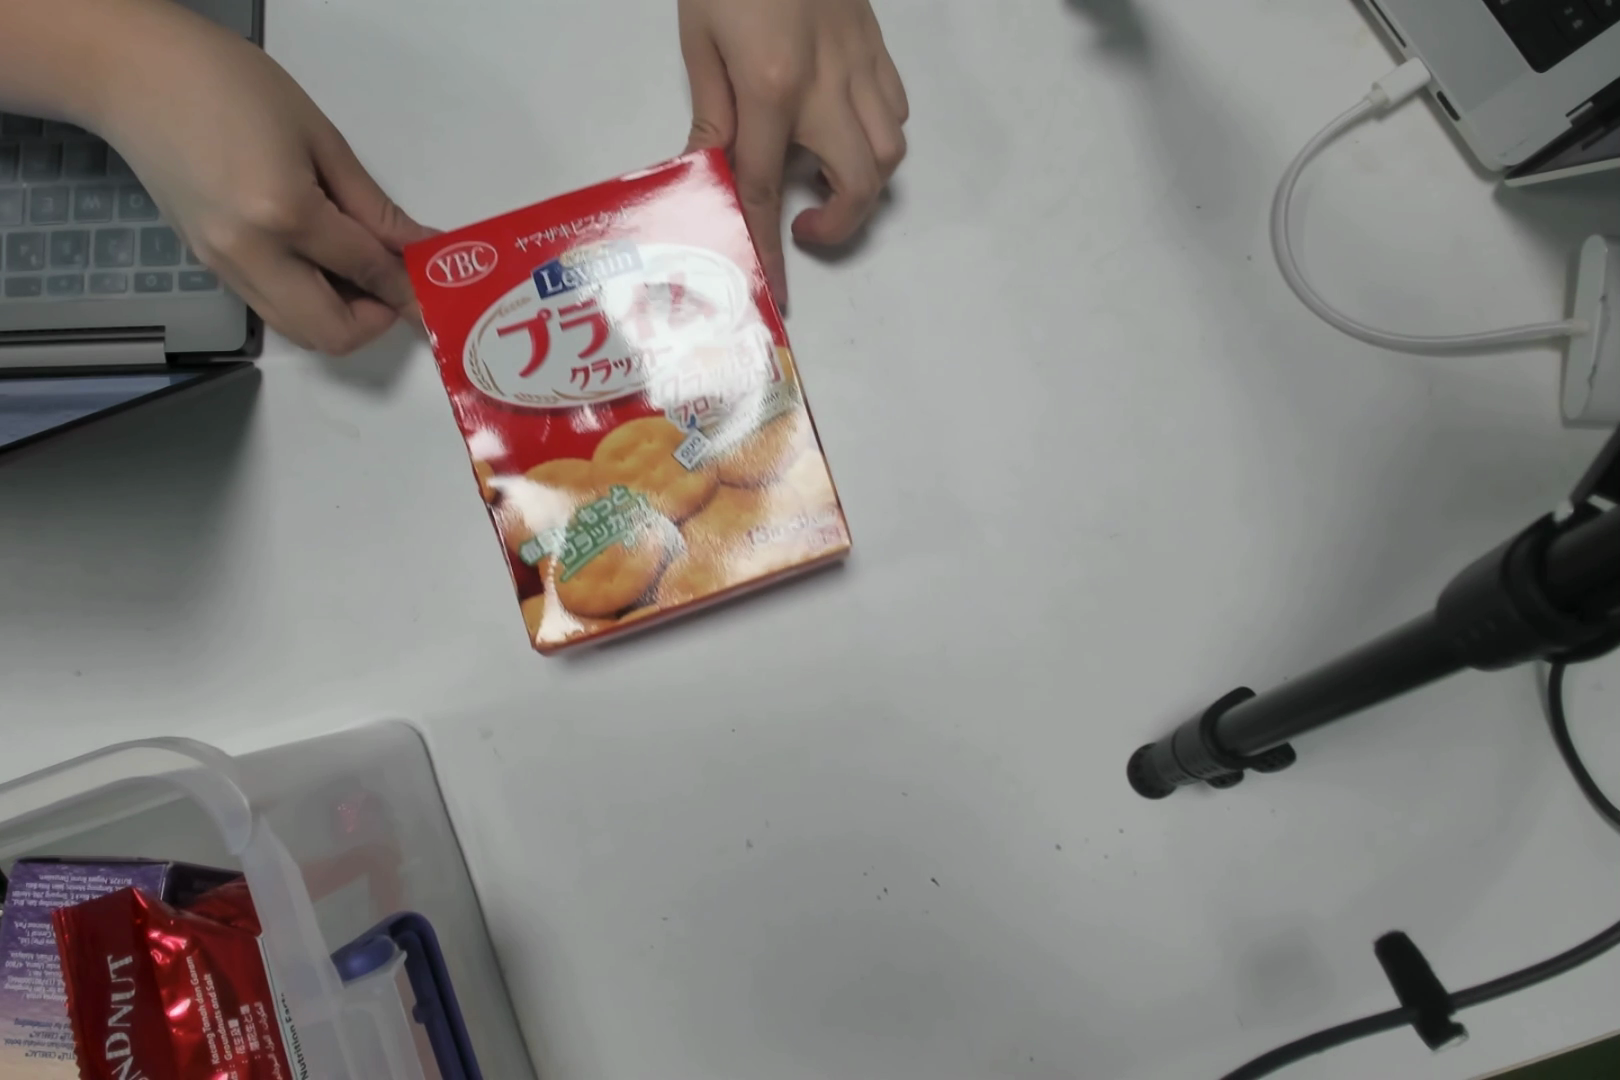c: (425, 228, 824, 609)
